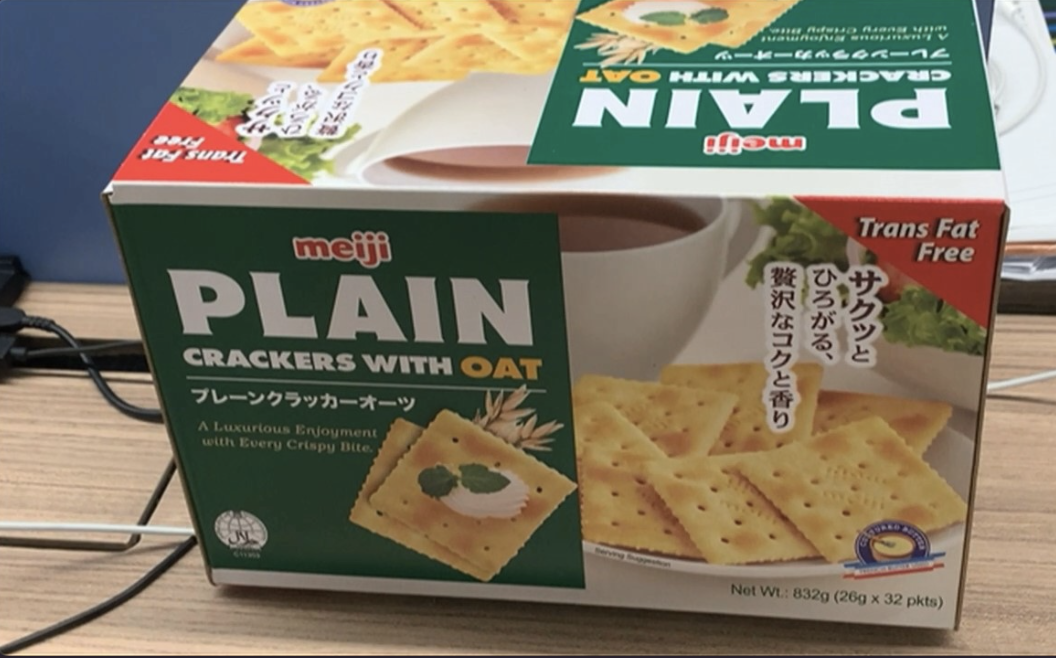crackers_800g-899g: (173, 196, 977, 608)
